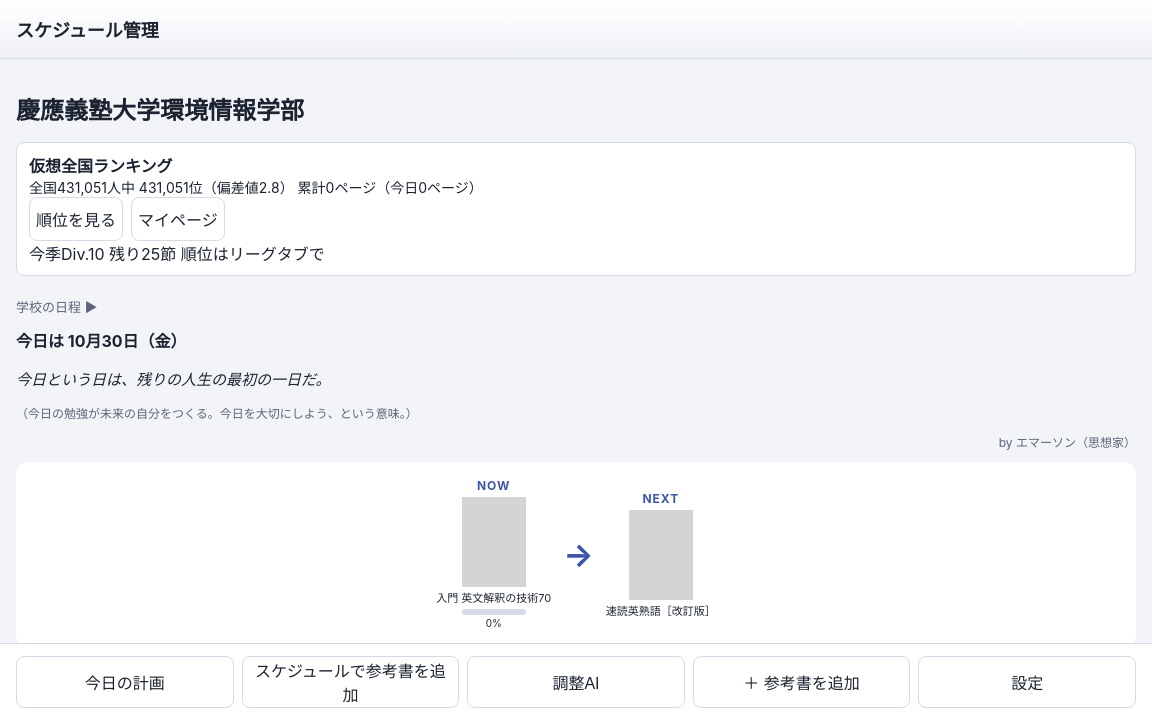
Test: navigates to the adjustment AI screen from home
Click the button with test id "nav-ai": point(576, 682) [467,656,685,708]
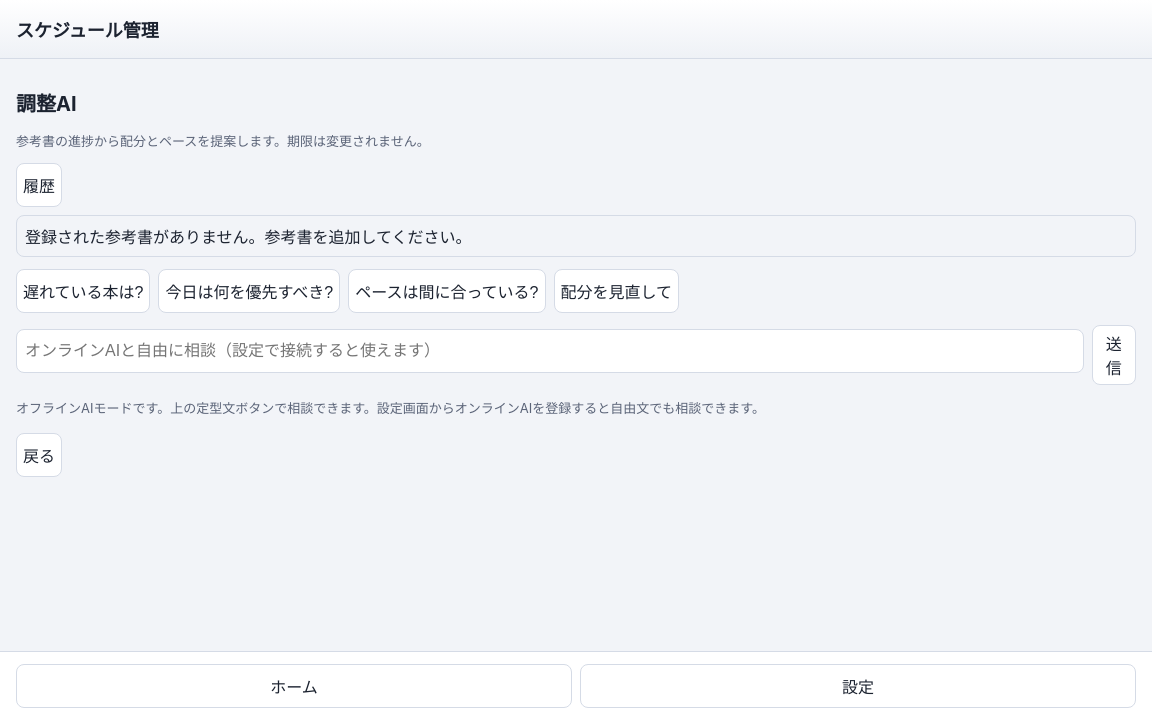
Now the element with test id "chat-screen" is shown
